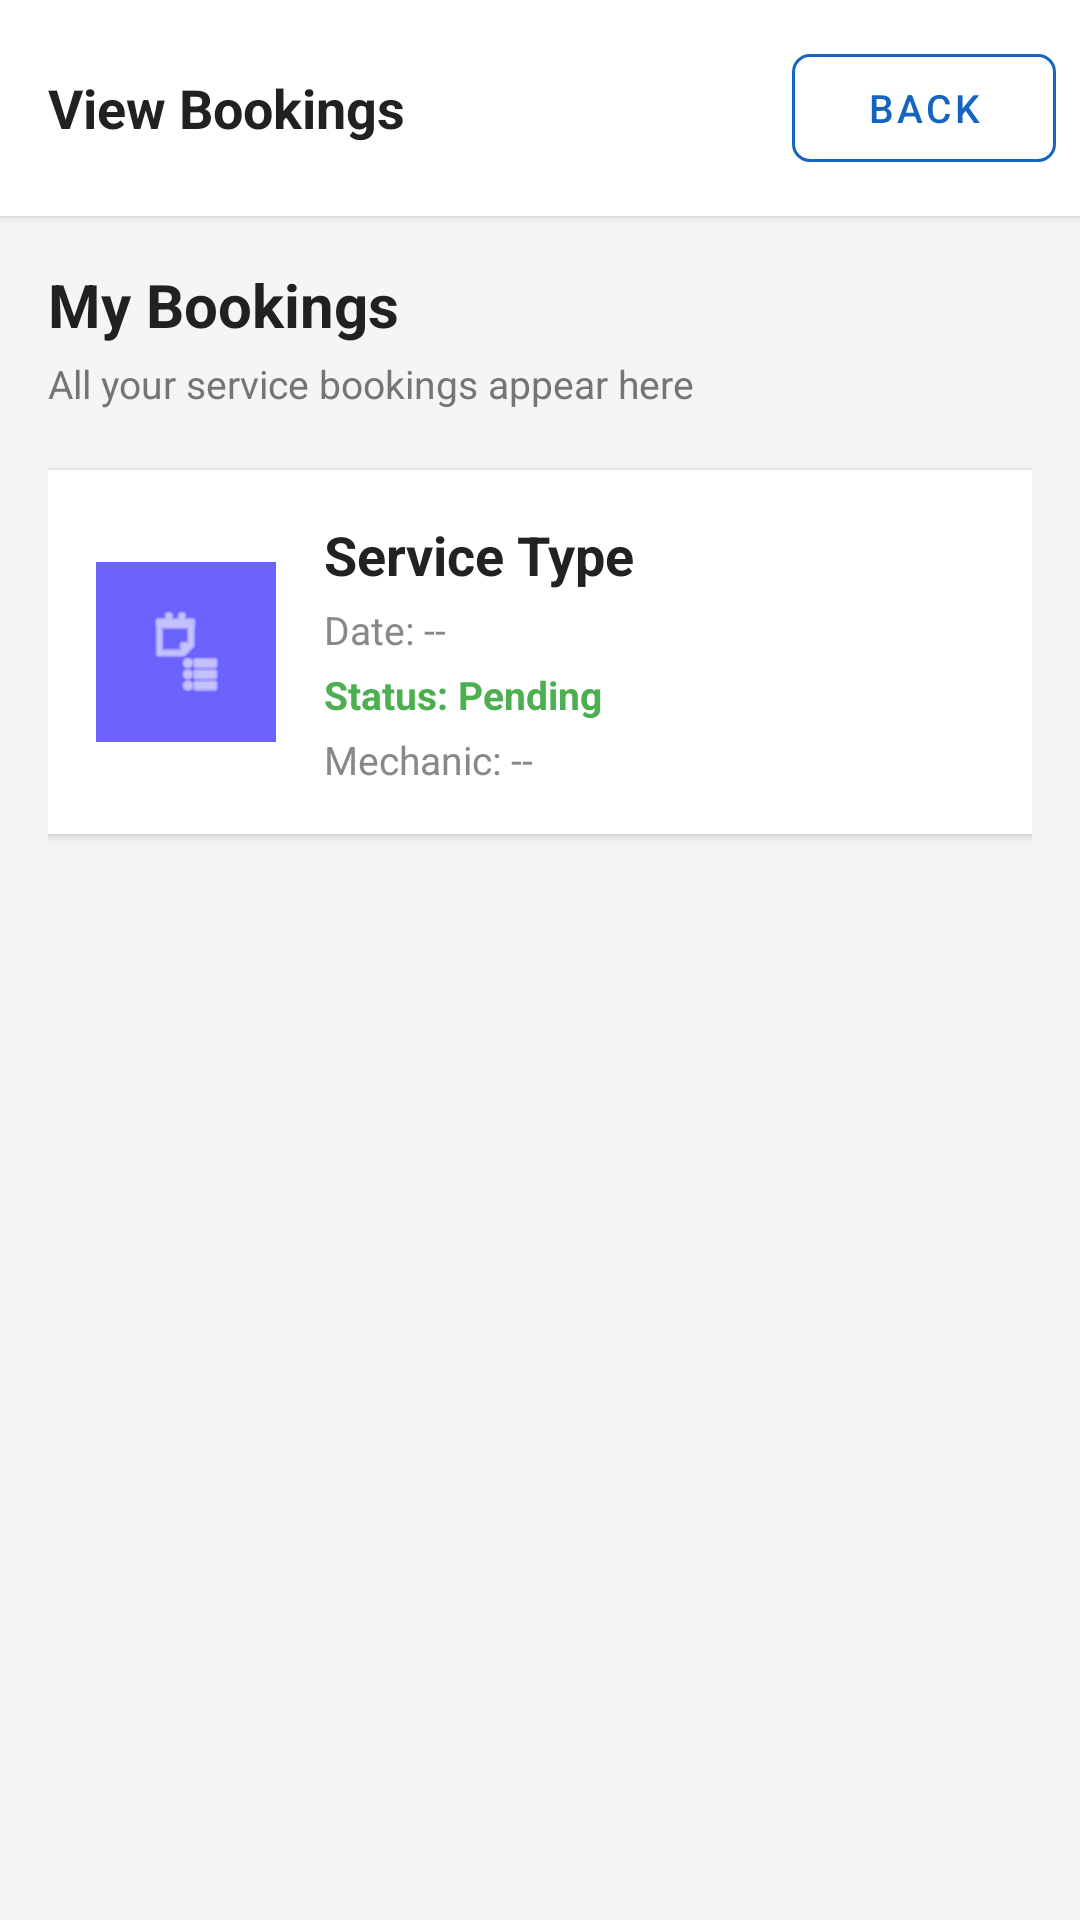

Where to tap for icons on this 1080×1920 app screen, as [x,y]:
agenda: [186,651]
